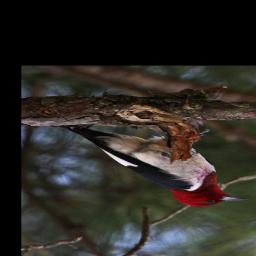Woodpecker: (49, 124, 253, 208)
